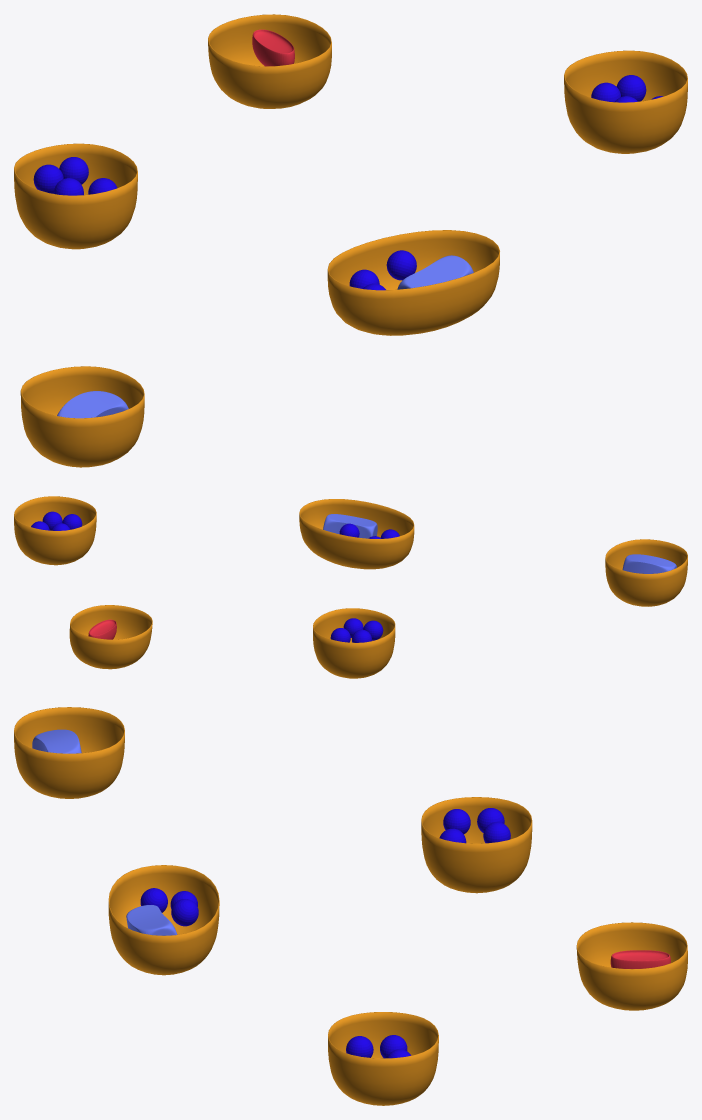
The model's file is vesícula v1.glb.
3 views of the same model, one above another, from view 1: azimuth 30°, elevation 25°; view 2: azimuth 150°, elevation 25°; view 3: azimuth 270°, elevation 25° (orthographic). The views are drawn at different scales.
Visible parts, largest first — view 1: Cube.003, Cube.002, Cube.001, Cube, Cube.004, Cube.006, Cube.005, Cube.007, Sphere.009; view 2: Cube.003, Cube.002, Cube.004, Cube, Cube.001, Cube.006, Cube.005, Cube.007; view 3: Cube.003, Cube.002, Cube.001, Cube, Cube.004, Cube.005, Cube.007, Cube.006, Sphere.009.
Part boxes in pixels (x1,y1,x2,y2): Cube.003: [327, 230, 499, 335]; Cube.002: [564, 50, 687, 153]; Cube.001: [20, 366, 144, 467]; Cube: [14, 143, 137, 249]; Cube.004: [208, 14, 331, 108]; Cube.006: [57, 391, 128, 418]; Cube.005: [397, 255, 473, 289]; Cube.007: [252, 29, 294, 66]; Sphere.009: [386, 250, 416, 280]; Cube.003: [299, 499, 414, 569]; Cube.002: [14, 496, 96, 565]; Cube.004: [69, 605, 152, 669]; Cube: [313, 608, 395, 678]; Cube.001: [605, 539, 687, 606]; Cube.006: [622, 554, 676, 573]; Cube.005: [323, 514, 377, 538]; Cube.007: [88, 619, 116, 639]; Cube.003: [108, 865, 219, 975]; Cube.002: [328, 1012, 438, 1105]; Cube.001: [14, 707, 124, 798]; Cube: [421, 797, 532, 893]; Cube.004: [576, 922, 687, 1010]; Cube.005: [126, 905, 177, 935]; Cube.007: [610, 950, 670, 968]; Cube.006: [32, 729, 81, 753]; Sphere.009: [171, 899, 198, 926].
Size of the model in its own units: 14.3 by 1.36 by 11.13.
